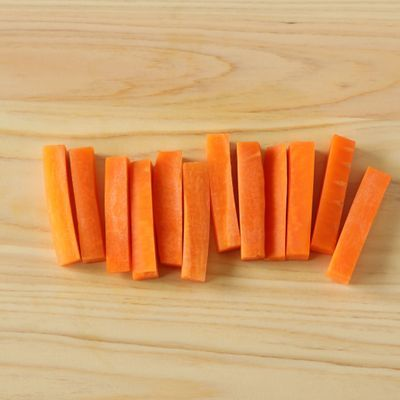buah_sayur_vitA: (324, 169, 389, 284), (311, 136, 355, 257), (42, 146, 67, 260), (184, 164, 207, 280), (158, 151, 181, 264), (131, 164, 153, 275), (241, 142, 262, 258), (106, 161, 127, 269), (291, 147, 309, 248), (72, 152, 93, 219), (269, 148, 282, 254), (211, 137, 231, 200)
